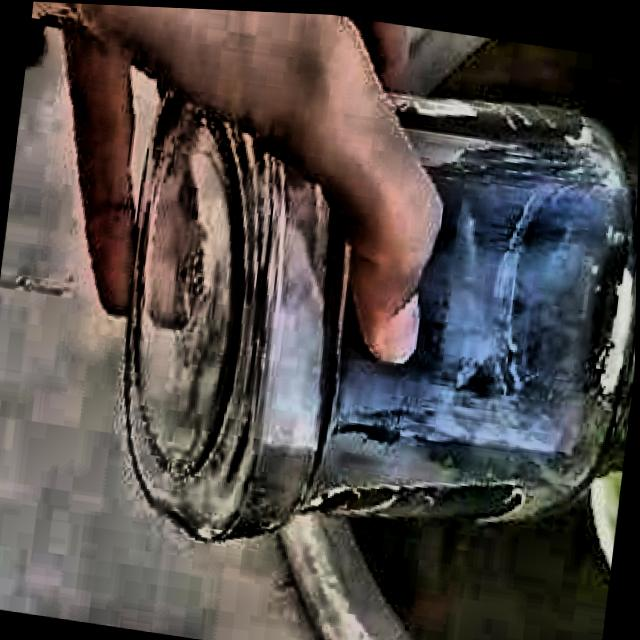glass: (125, 92, 638, 534)
